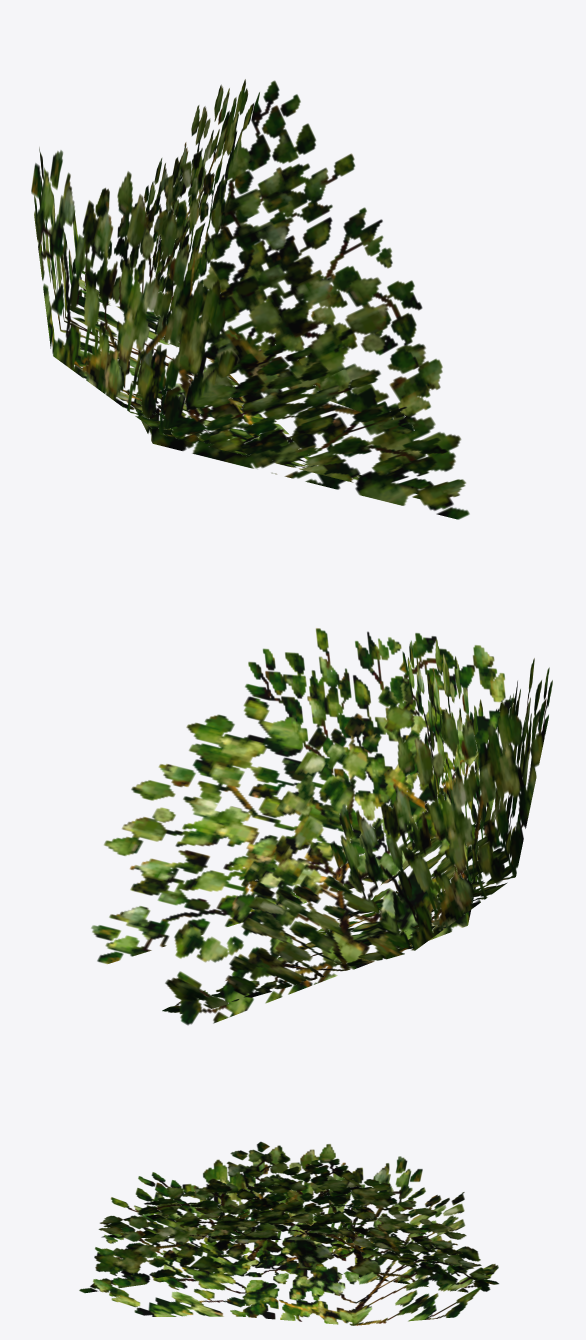
File: Bush10.glb
The picture shows the model from 3 angles, top to bottom: view 1: azimuth 30°, elevation 25°; view 2: azimuth 150°, elevation 25°; view 3: azimuth 270°, elevation 25°; orthographic projection. The views are drawn at different scales.
Visible parts, largest first — view 1: Bush10; view 2: Bush10; view 3: Bush10.
Part boxes in pixels (x1,y1,x2,y2): Bush10: (31,79,469,519); Bush10: (91,628,552,1025); Bush10: (79,1141,498,1325).
Bounding box in the file's own units: 0.9348 × 1.29 × 3.16.
1 material, 1 textured.
